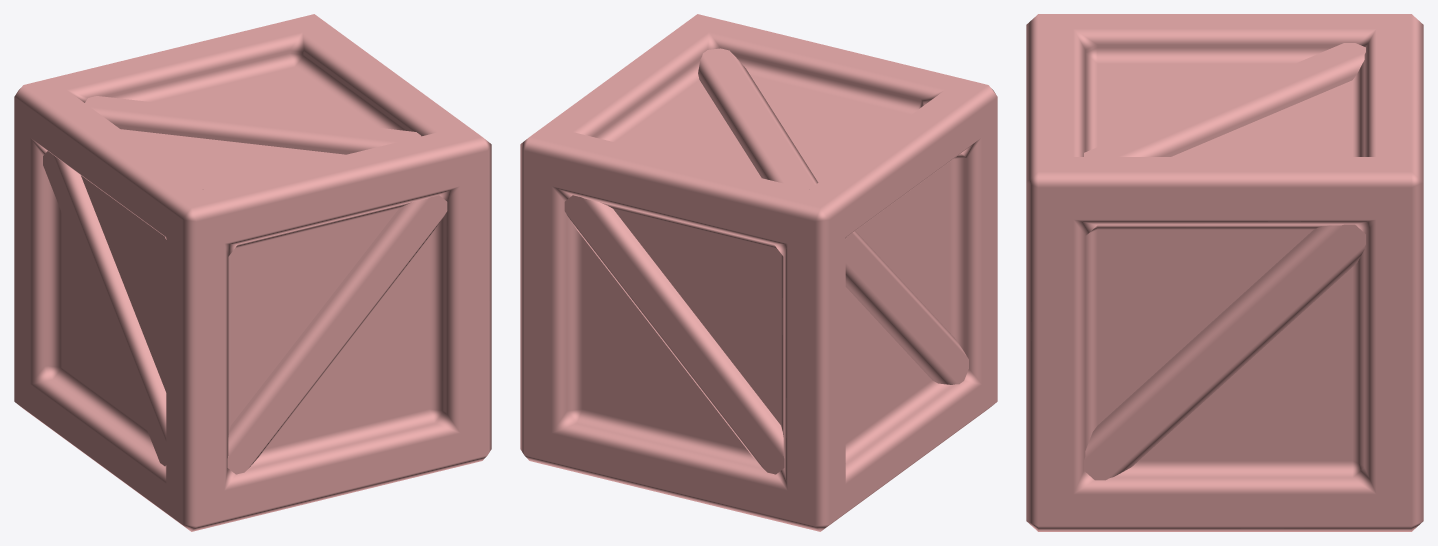
Rendered from Crate_1.fbx.
3 renders of one model, left to right at view 1: azimuth 30°, elevation 25°; view 2: azimuth 150°, elevation 25°; view 3: azimuth 270°, elevation 25°, orthographic. The views are drawn at different scales.
Parts seen in each view (by area): view 1: Crate_1; view 2: Crate_1; view 3: Crate_1.
Boxes of the visible parts, box(x1,y1,x2,y2) form: Crate_1: box(14, 14, 491, 531); Crate_1: box(520, 14, 997, 531); Crate_1: box(1026, 14, 1423, 531).
Bounding box in the file's own units: 48.62 × 48.62 × 48.62.
